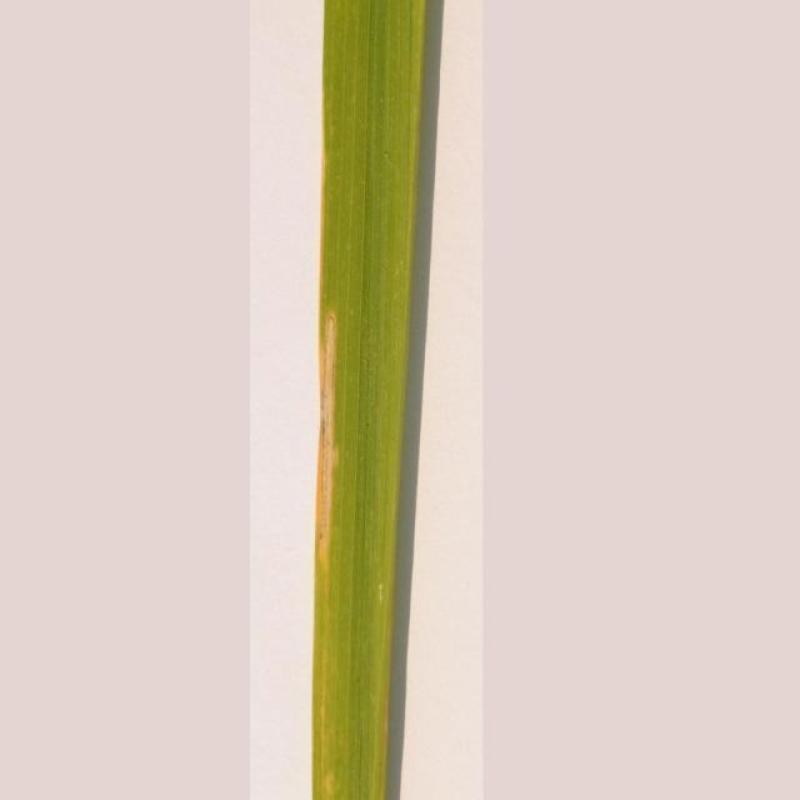Bacterial_Leaf_Blight: (278, 10, 382, 800)
